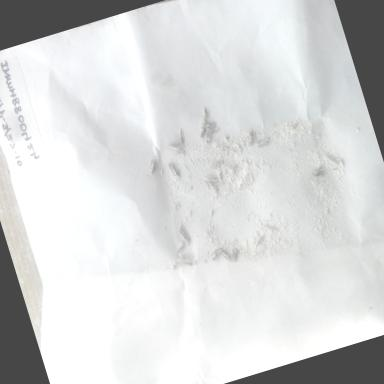pbw: (165, 140, 188, 160), (174, 252, 195, 272), (306, 161, 328, 180), (144, 154, 160, 178), (176, 224, 192, 248), (213, 244, 232, 264), (166, 159, 182, 182), (196, 121, 214, 140), (243, 126, 260, 146), (194, 110, 211, 128), (202, 120, 218, 138), (228, 243, 243, 262), (206, 244, 222, 261), (207, 158, 225, 172), (253, 136, 271, 150), (201, 172, 218, 186), (207, 178, 220, 195)
